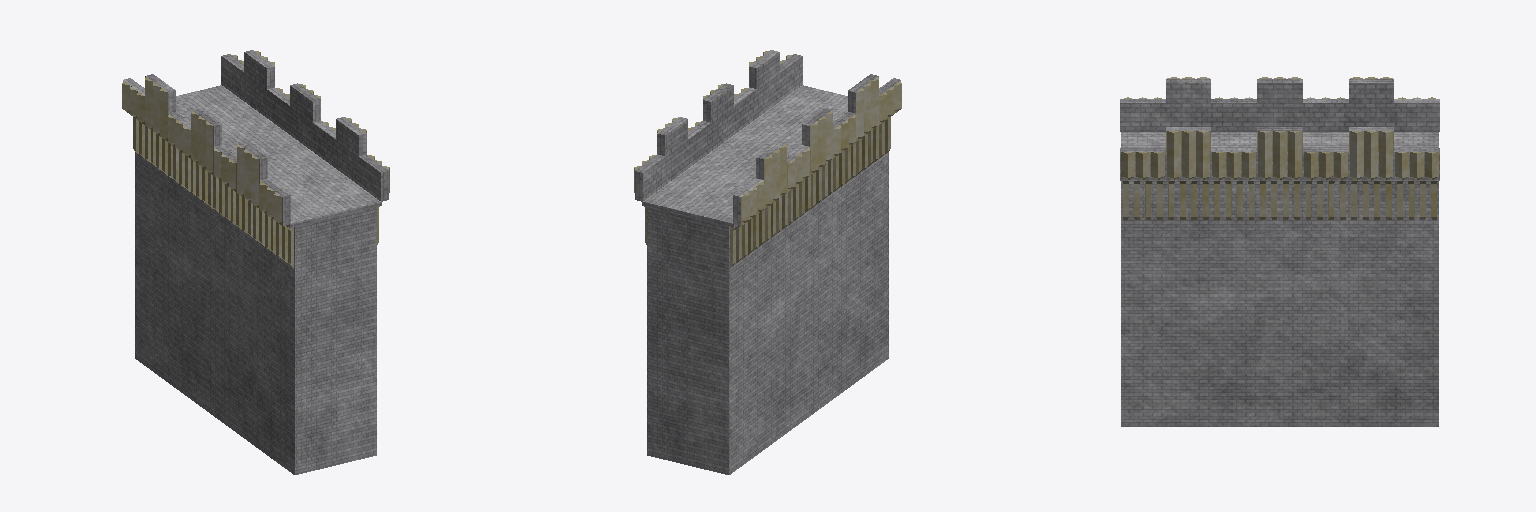
The picture shows the model from 3 angles: view 1: azimuth 30°, elevation 25°; view 2: azimuth 150°, elevation 25°; view 3: azimuth 270°, elevation 25°; orthographic projection.
Visible parts, largest first — view 1: 円柱.001_円柱.014; view 2: 円柱.001_円柱.014; view 3: 円柱.001_円柱.014.
Part boxes in pixels (x1,y1,x2,y2): 円柱.001_円柱.014: (122,50,389,474); 円柱.001_円柱.014: (634,50,901,474); 円柱.001_円柱.014: (1120,77,1439,426).
Size of the model in its own units: 5.83 by 14.6 by 14.
1 materials, 1 textured.